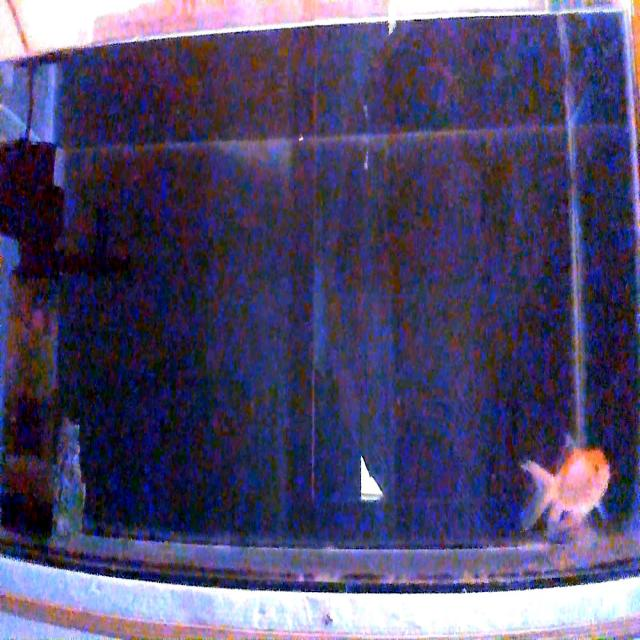fish: (520, 443, 610, 531), (29, 307, 46, 334)
